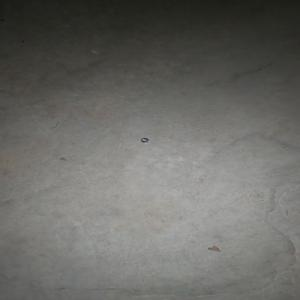Nut: (139, 138, 148, 144)
